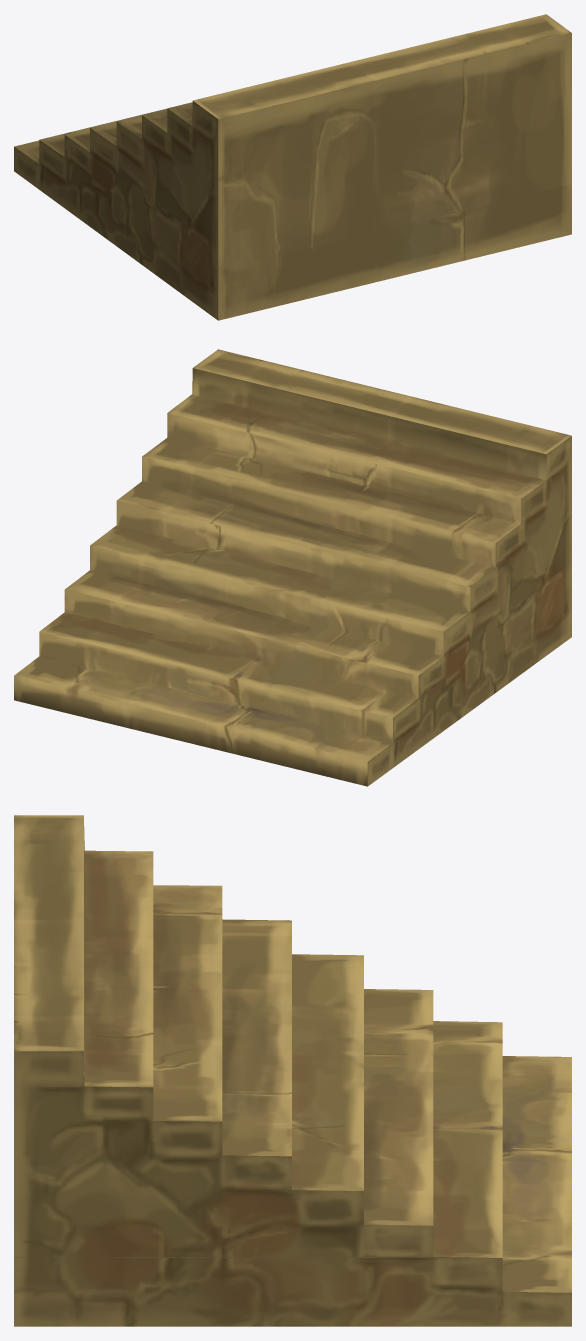
The model's file is ladder_1100.obj.
The picture shows the model from 3 angles, top to bottom: view 1: azimuth 30°, elevation 25°; view 2: azimuth 150°, elevation 25°; view 3: azimuth 270°, elevation 25°; orthographic projection. The views are drawn at different scales.
Parts seen in each view (by area): view 1: pCube1; view 2: pCube1; view 3: pCube1.
Part boxes in pixels (x1,y1,x2,y2): pCube1: (14, 14, 571, 320); pCube1: (14, 349, 571, 786); pCube1: (14, 815, 571, 1326).
Size of the model in its own units: 2 by 1.09 by 2.
1 material, 1 textured.
